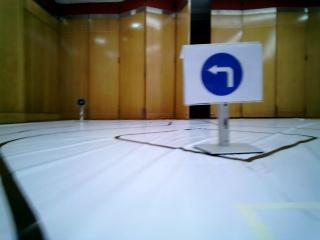left: (185, 47, 260, 103)
